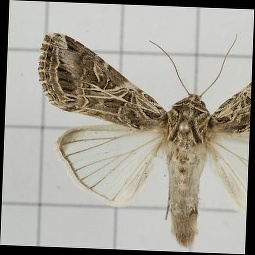Spodoptera litura: (34, 29, 250, 246)
